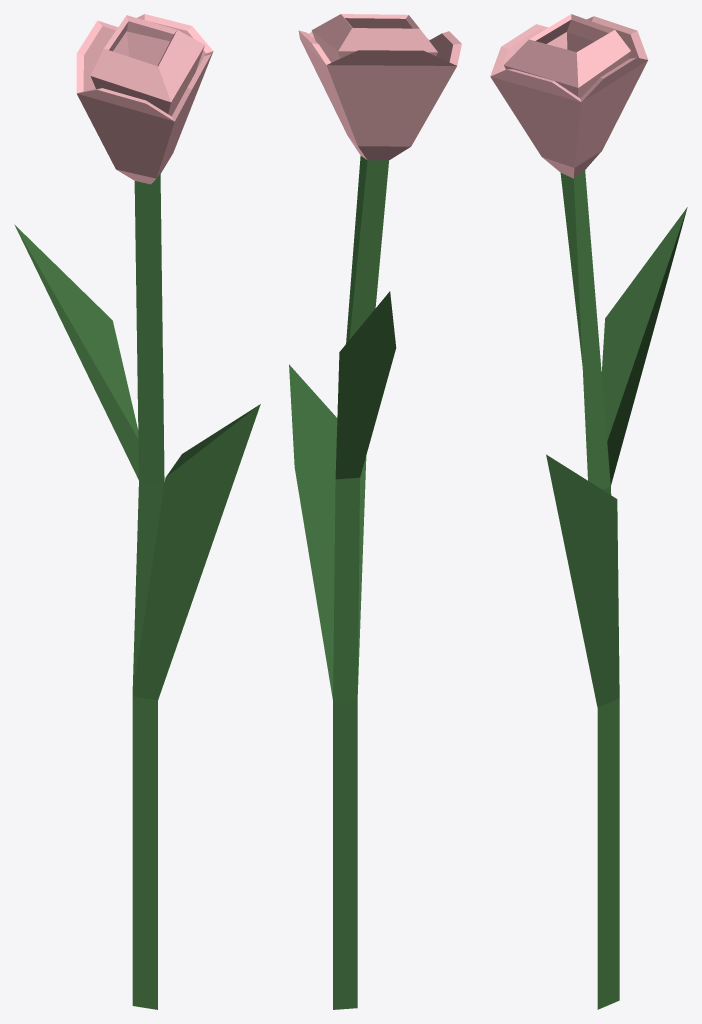
File: flowertulipan01.gltf
3 views of the same model, side by side, from view 1: azimuth 30°, elevation 25°; view 2: azimuth 150°, elevation 25°; view 3: azimuth 270°, elevation 25° (orthographic). The views are drawn at different scales.
Parts seen in each view (by area): view 1: Icosphere; view 2: Icosphere; view 3: Icosphere.
Boxes of the visible parts, x1,y1,x2,y2 form: Icosphere: (14,14,260,1009); Icosphere: (289,14,461,1009); Icosphere: (490,14,687,1009).
Size of the model in its own units: 0.1316 by 0.7079 by 0.1307.
Materials: 1 (1 with a texture image).
